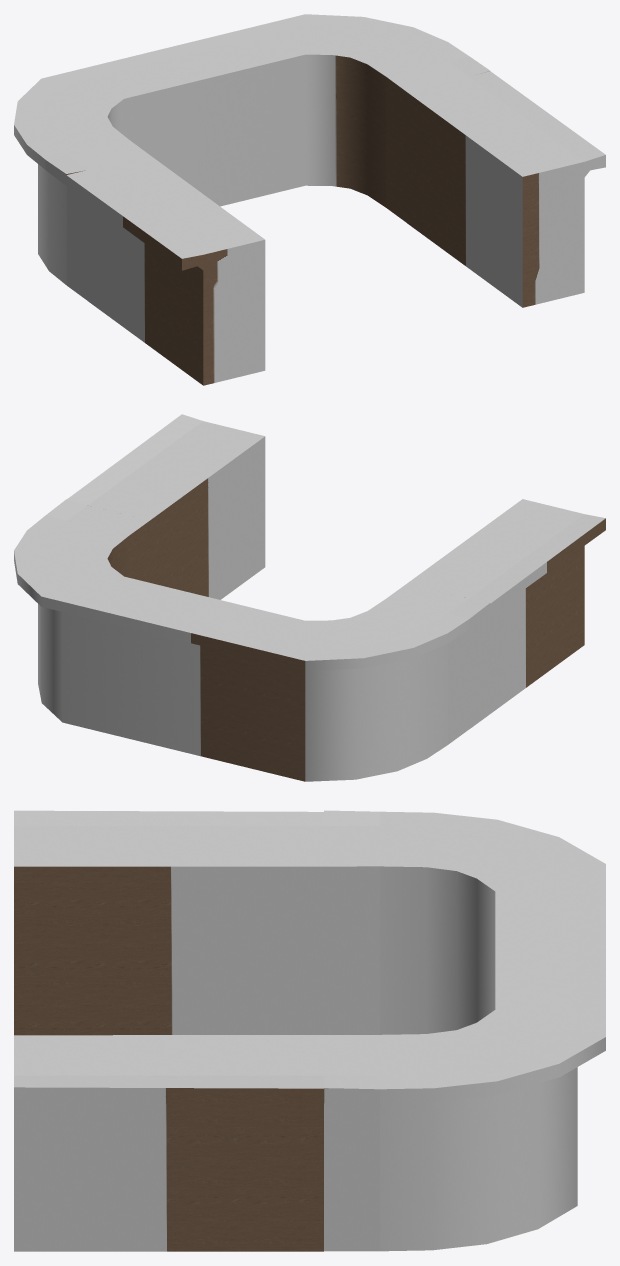
The model's file is Decor_Bartop.fbx.
3 renders of one model, top to bottom at view 1: azimuth 30°, elevation 25°; view 2: azimuth 150°, elevation 25°; view 3: azimuth 270°, elevation 25°, orthographic. The views are drawn at different scales.
Visible parts, largest first — view 1: long_bartop, short_bartop; view 2: short_bartop, long_bartop; view 3: long_bartop, short_bartop.
Part boxes in pixels (x1,y1,x2,y2): long_bartop: [66, 71, 605, 385]; short_bartop: [14, 14, 489, 300]; short_bartop: [14, 499, 490, 781]; long_bartop: [67, 414, 605, 729]; long_bartop: [14, 810, 324, 1251]; short_bartop: [324, 810, 605, 1251].
Bounding box in the file's own units: 324 × 96.89 × 292.
